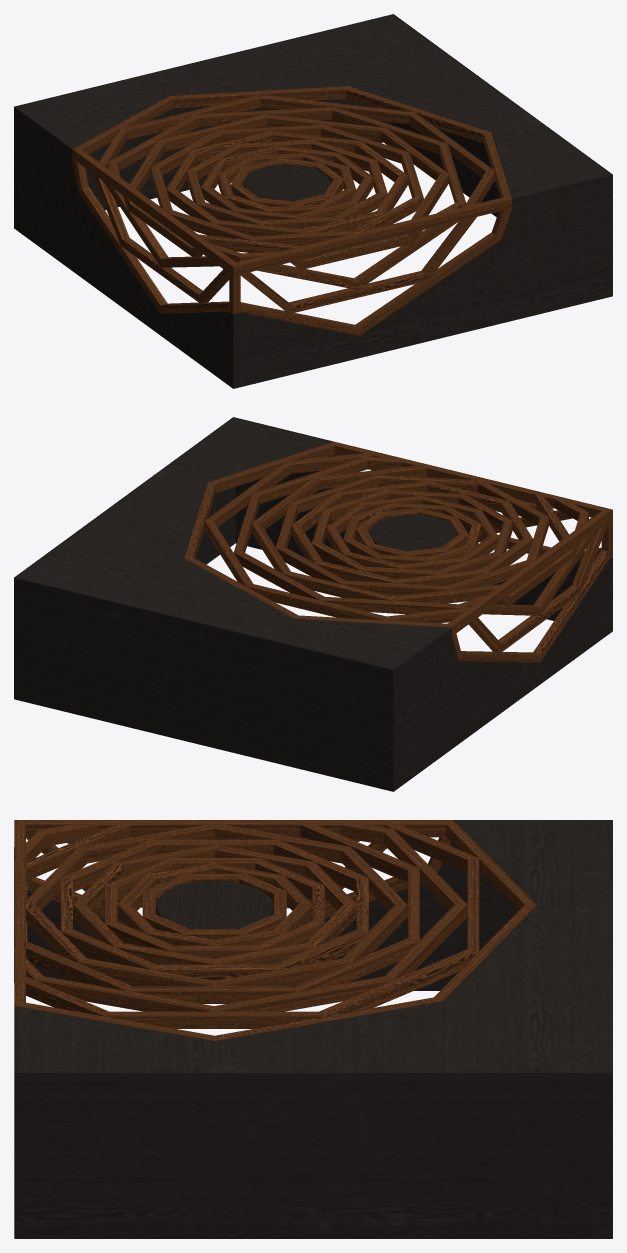
The model's file is coffee-table-inlay.glb.
The picture shows the model from 3 angles, top to bottom: view 1: azimuth 30°, elevation 25°; view 2: azimuth 150°, elevation 25°; view 3: azimuth 270°, elevation 25°; orthographic projection. The views are drawn at different scales.
Parts seen in each view (by area): view 1: coffee-table-inlay; view 2: coffee-table-inlay; view 3: coffee-table-inlay.
Boxes of the visible parts, <box> form: coffee-table-inlay: <box>14,14,612,388</box>; coffee-table-inlay: <box>14,417,612,791</box>; coffee-table-inlay: <box>14,820,612,1238</box>.
Bounding box in the file's own units: 1.2 × 0.3693 × 1.2.
2 materials, 2 textured.
